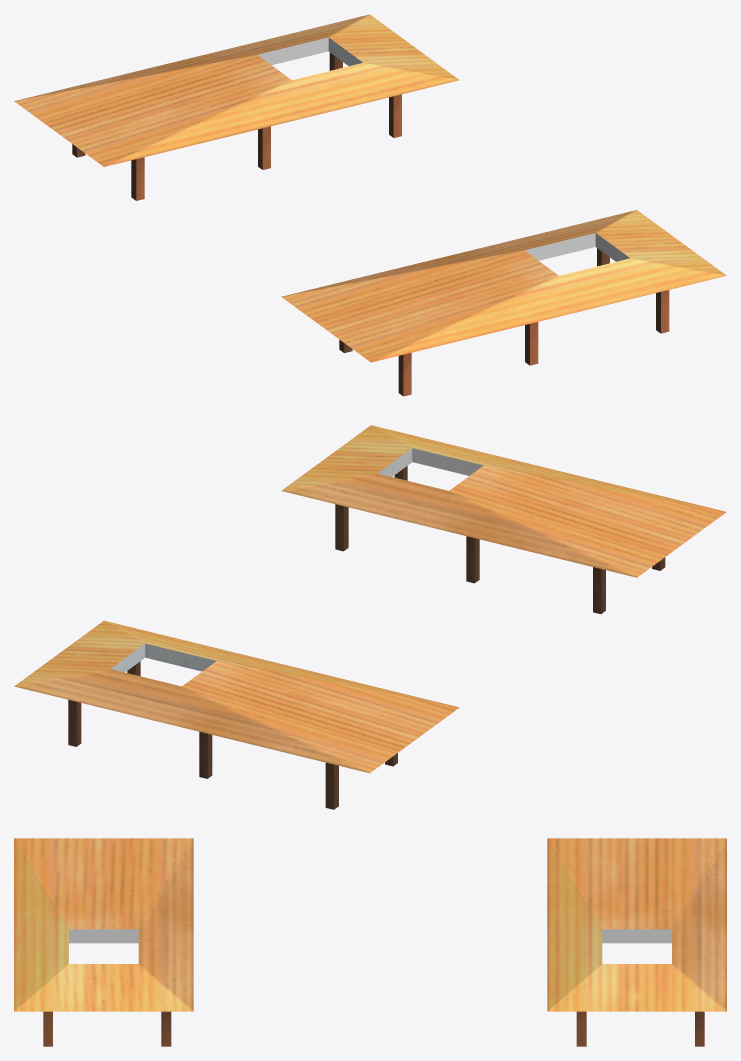
The model's file is 4Bpeng.obj.
The picture shows the model from 3 angles, top to bottom: view 1: azimuth 30°, elevation 25°; view 2: azimuth 150°, elevation 25°; view 3: azimuth 270°, elevation 25°; orthographic projection.
Parts seen in each view (by area): view 1: 4Bpeng; view 2: 4Bpeng; view 3: 4Bpeng.
Part boxes in pixels (left/top/right/bottom): 4Bpeng: left=14, top=14, right=726, bottom=396; 4Bpeng: left=14, top=425, right=726, bottom=809; 4Bpeng: left=14, top=838, right=726, bottom=1046.
Bounding box in the file's own units: 34.91 × 6.58 × 60.65.
Materials: 1 (1 with a texture image).
